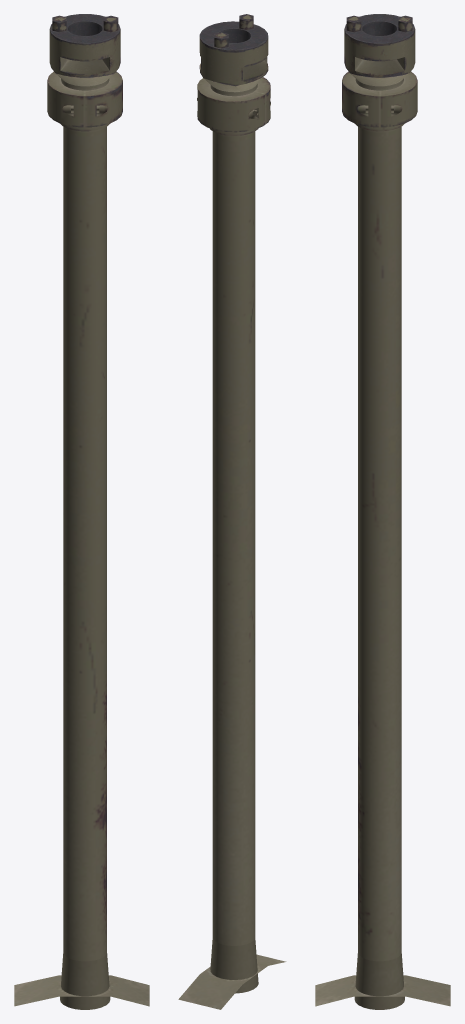
The model's file is Gun_05.glb.
The picture shows the model from 3 angles, left to right: view 1: azimuth 90°, elevation 25°; view 2: azimuth 150°, elevation 25°; view 3: azimuth 270°, elevation 25°; orthographic projection. The views are drawn at different scales.
Visible parts, largest first — view 1: set_0_group_0; view 2: set_0_group_0; view 3: set_0_group_0.
Boxes of the visible parts, left/top/right/bottom form: set_0_group_0: left=14, top=14, right=149, bottom=1009; set_0_group_0: left=178, top=14, right=286, bottom=1009; set_0_group_0: left=315, top=14, right=450, bottom=1009.
Bounding box in the file's own units: 0.2808 × 4.05 × 0.5062.
1 material, 1 textured.
